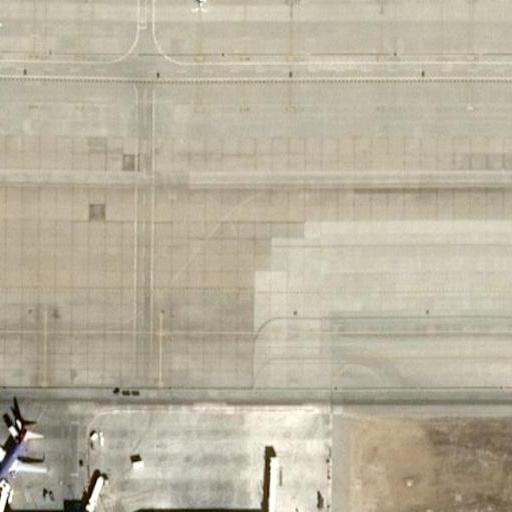Aircraft: (0, 406, 48, 495), (0, 0, 2, 31)
